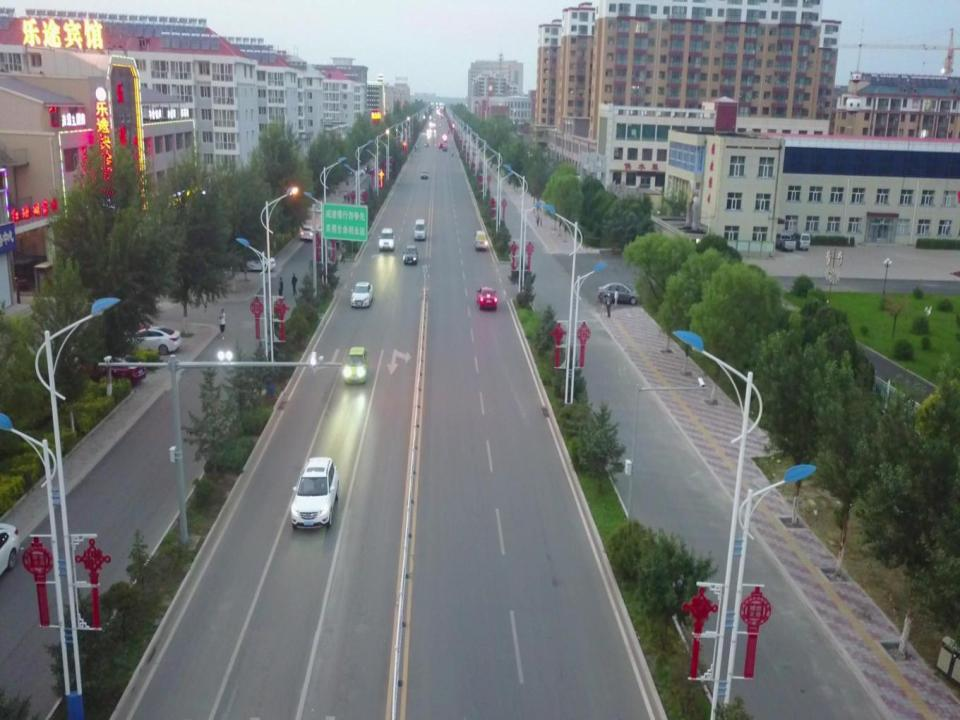car: (291, 456, 339, 530), (74, 354, 146, 384), (117, 324, 182, 356), (344, 346, 368, 385), (240, 252, 276, 273), (350, 281, 374, 308), (475, 286, 497, 310), (378, 228, 396, 251), (402, 245, 419, 265), (299, 225, 314, 240), (348, 166, 366, 177), (364, 163, 374, 175), (420, 170, 428, 180)
truck: (774, 231, 796, 252), (474, 230, 488, 250)
van: (790, 231, 810, 252), (414, 219, 427, 241)
